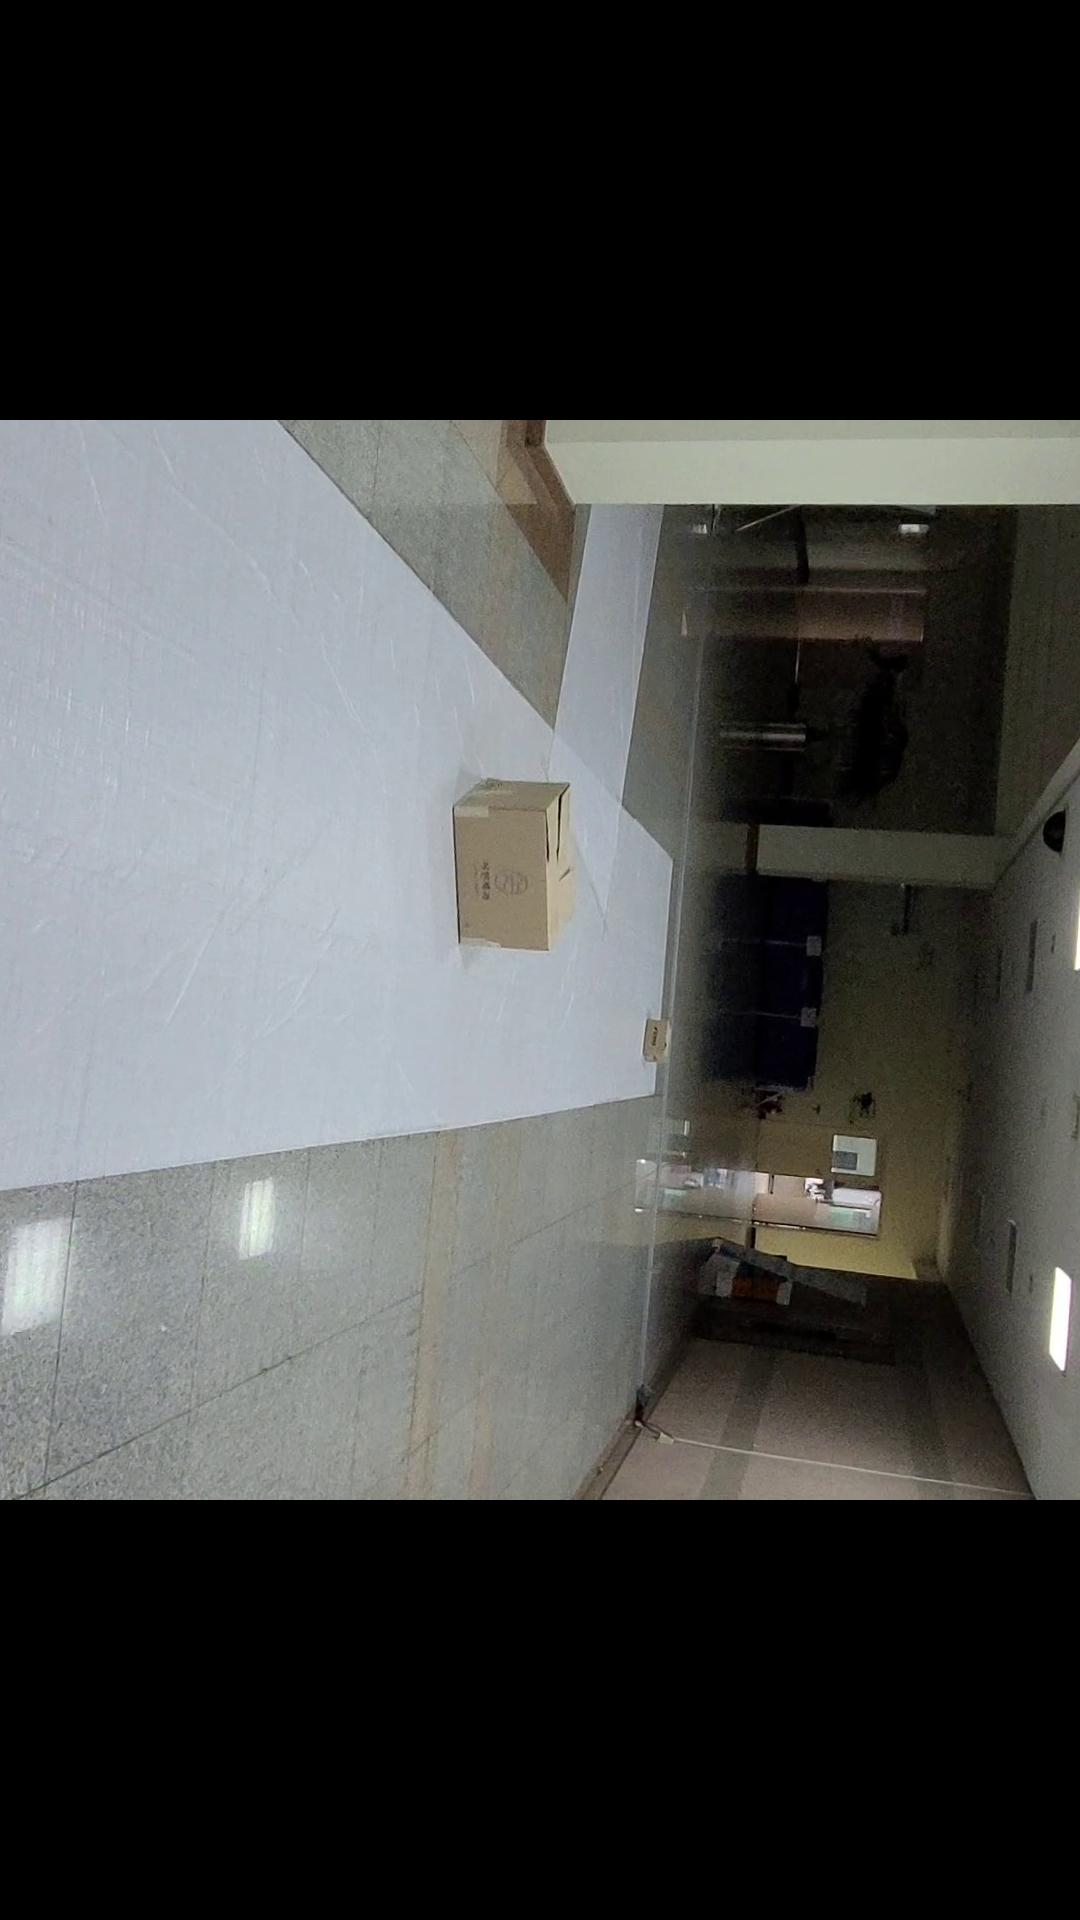Box: (429, 761, 585, 982), (620, 1007, 705, 1067)
